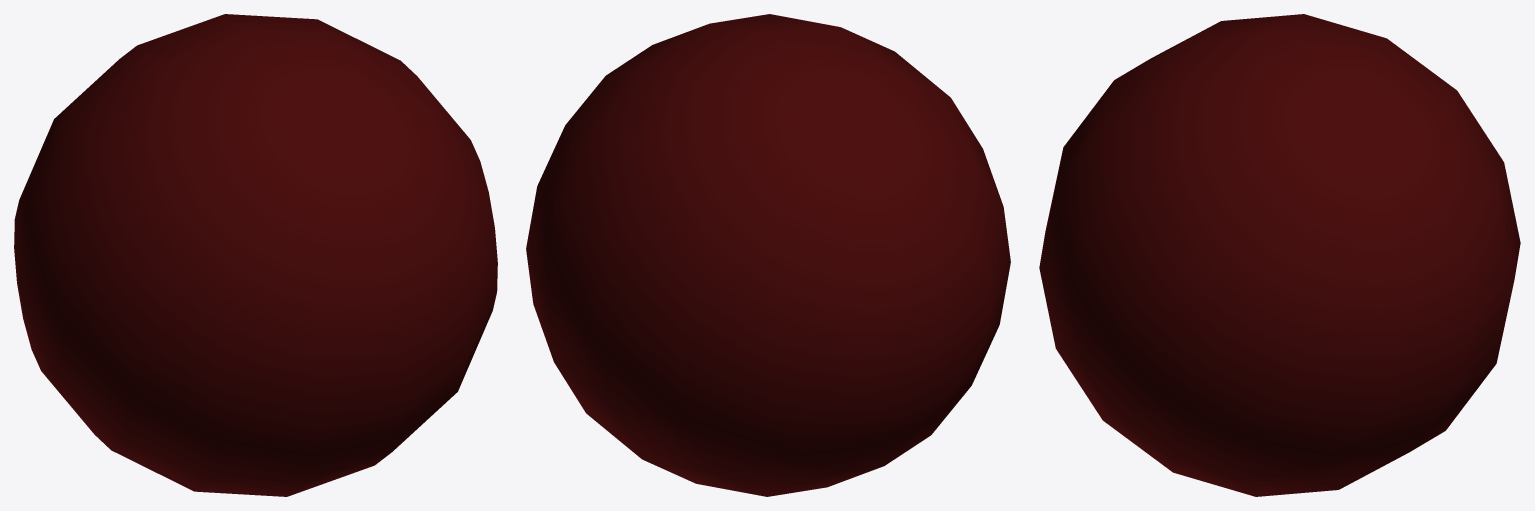
Rendered from rabbit_eye.obj.
3 renders of one model, left to right at view 1: azimuth 30°, elevation 25°; view 2: azimuth 150°, elevation 25°; view 3: azimuth 270°, elevation 25°, orthographic.
Visible parts, largest first — view 1: eye; view 2: eye; view 3: eye.
Boxes of the visible parts, bbox=[...] form: eye: bbox=[14, 14, 497, 496]; eye: bbox=[526, 14, 1010, 496]; eye: bbox=[1039, 14, 1520, 496].
Bounding box in the file's own units: 0.028 × 0.0282 × 0.028.
